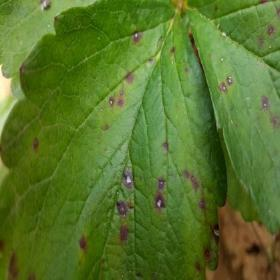Leaf Spot: (0, 0, 229, 279), (184, 0, 279, 241)
